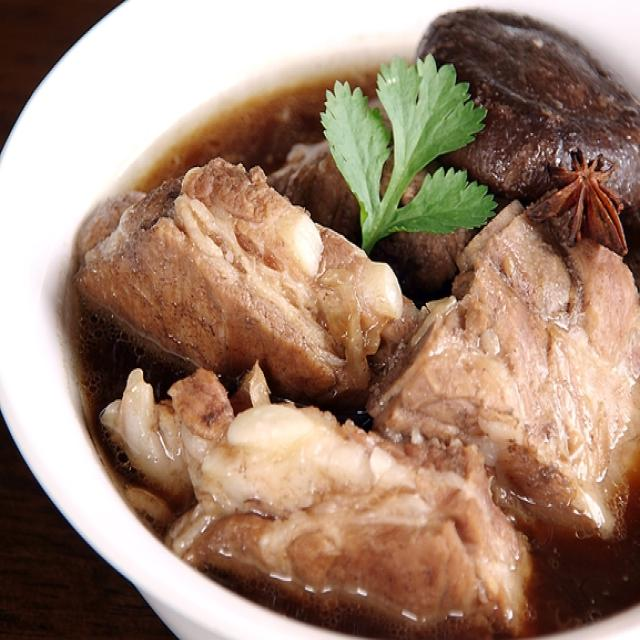汤锅炖物: (33, 27, 629, 612)
